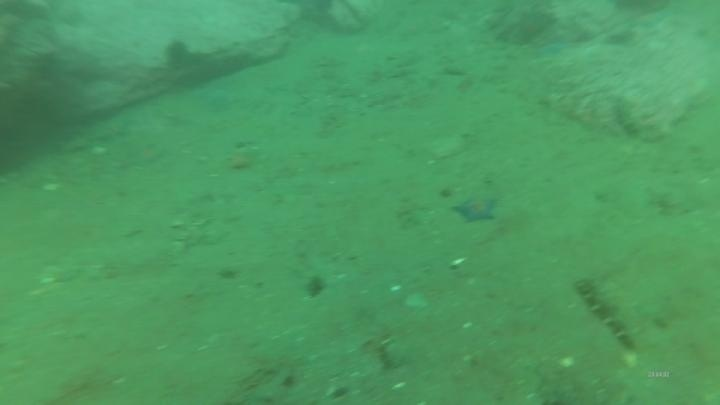echinus: (161, 37, 193, 71)
holothurian: (573, 273, 647, 355)
starfish: (449, 191, 502, 226)
